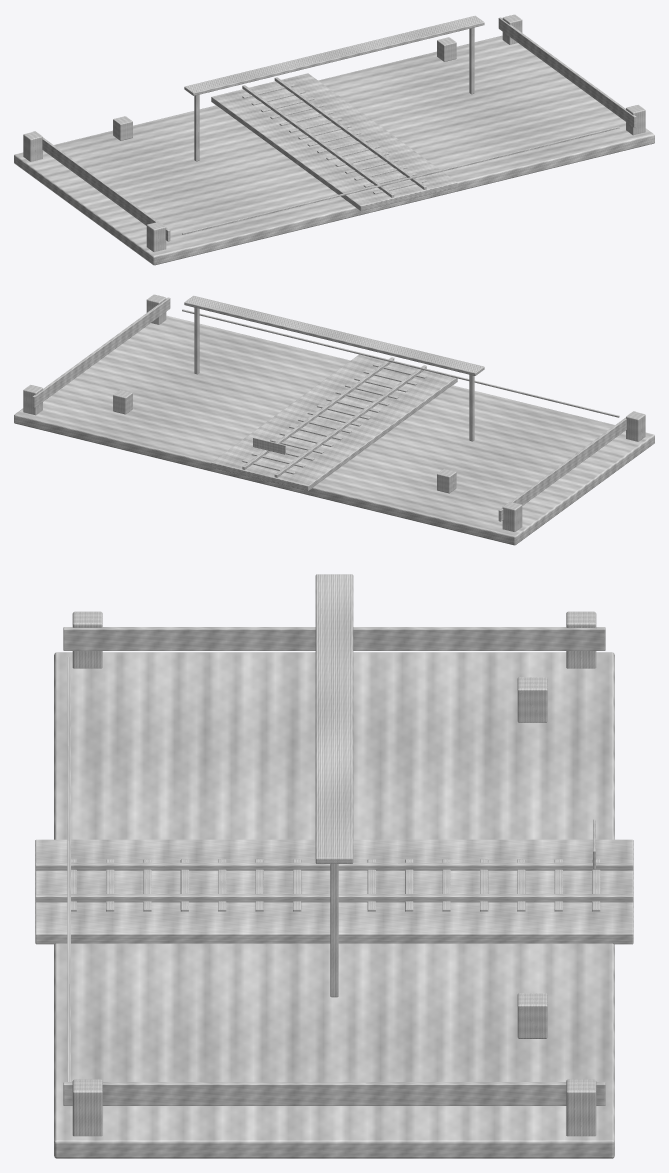
The model's file is freight_platform_variant_c.glb.
3 renders of one model, top to bottom at view 1: azimuth 30°, elevation 25°; view 2: azimuth 150°, elevation 25°; view 3: azimuth 270°, elevation 25°, orthographic. The views are drawn at different scales.
Parts seen in each view (by area): view 1: Platform foundation.002, Track bed.002, Empty platform canopy, Platform edge guard.005, Platform edge guard.004, Platform warning line.002, Rail.004, Rail.005, Platform support pier.008, Platform support pier.009, Blank service pedestal, Blank service pedestal.001 (+3 smaller); view 2: Platform foundation.002, Track bed.002, Empty platform canopy, Platform edge guard.005, Platform edge guard.004, Platform warning line.002, Rail.004, Rail.005, Platform support pier.009, Platform support pier.008, Blank service pedestal, Blank service pedestal.001 (+3 smaller); view 3: Platform foundation.002, Track bed.002, Platform edge guard.004, Platform edge guard.005, Empty platform canopy, Rail.005, Rail.004, Platform support pier.010, Platform support pier.011, Platform warning line.002, Blank service pedestal.001, Blank service pedestal (+3 smaller).
Boxes of the visible parts, x1=… form: Platform foundation.002: x1=14, y1=35, x2=654, y2=265; Track bed.002: x1=211, y1=73, x2=457, y2=210; Empty platform canopy: x1=184, y1=15, x2=484, y2=95; Platform edge guard.005: x1=498, y1=17, x2=636, y2=127; Platform edge guard.004: x1=33, y1=131, x2=170, y2=241; Platform warning line.002: x1=182, y1=126, x2=619, y2=234; Rail.004: x1=242, y1=85, x2=394, y2=197; Rail.005: x1=274, y1=77, x2=426, y2=189; Platform support pier.008: x1=146, y1=221, x2=166, y2=251; Platform support pier.009: x1=23, y1=131, x2=42, y2=161; Blank service pedestal: x1=437, y1=37, x2=456, y2=61; Blank service pedestal.001: x1=113, y1=116, x2=132, y2=140; Platform foundation.002: x1=14, y1=315, x2=654, y2=545; Track bed.002: x1=211, y1=354, x2=457, y2=490; Empty platform canopy: x1=184, y1=295, x2=484, y2=375; Platform edge guard.005: x1=32, y1=297, x2=170, y2=407; Platform edge guard.004: x1=498, y1=411, x2=635, y2=521; Platform warning line.002: x1=182, y1=309, x2=619, y2=417; Rail.004: x1=274, y1=365, x2=426, y2=477; Rail.005: x1=242, y1=357, x2=394, y2=469; Platform support pier.009: x1=502, y1=501, x2=522, y2=531; Platform support pier.008: x1=626, y1=411, x2=645, y2=441; Blank service pedestal: x1=113, y1=389, x2=132, y2=414; Blank service pedestal.001: x1=437, y1=468, x2=456, y2=493; Platform foundation.002: x1=54, y1=652, x2=614, y2=1158; Track bed.002: x1=35, y1=839, x2=633, y2=944; Platform edge guard.004: x1=63, y1=627, x2=605, y2=650; Platform edge guard.005: x1=63, y1=1082, x2=605, y2=1105; Empty platform canopy: x1=315, y1=574, x2=353, y2=863; Rail.005: x1=35, y1=894, x2=633, y2=902; Rail.004: x1=35, y1=862, x2=633, y2=870; Platform support pier.010: x1=72, y1=1079, x2=102, y2=1136; Platform support pier.011: x1=566, y1=1079, x2=596, y2=1136; Platform warning line.002: x1=67, y1=657, x2=70, y2=1081; Blank service pedestal.001: x1=517, y1=677, x2=547, y2=722; Blank service pedestal: x1=517, y1=993, x2=547, y2=1038.
Size of what is drawn, in the model's own units: 31 by 5.99 by 16.
Materials: 4 (4 with a texture image).
